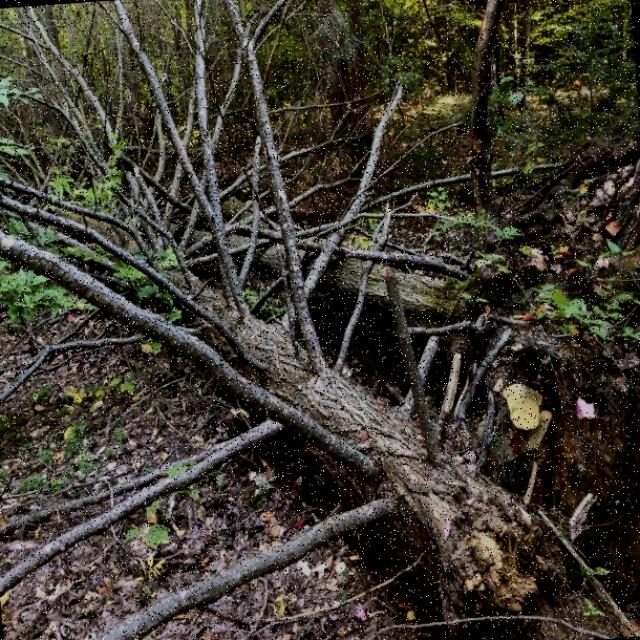fallen_object: (61, 192, 552, 637), (138, 133, 498, 361)
